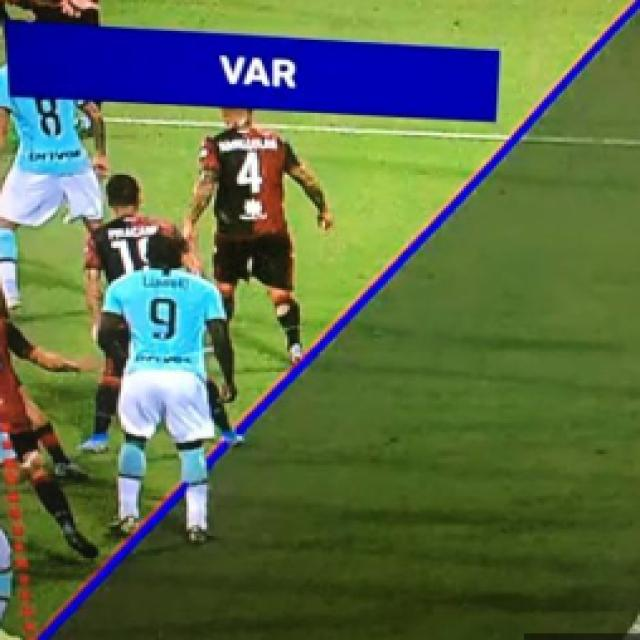offside: (111, 99, 368, 537)
